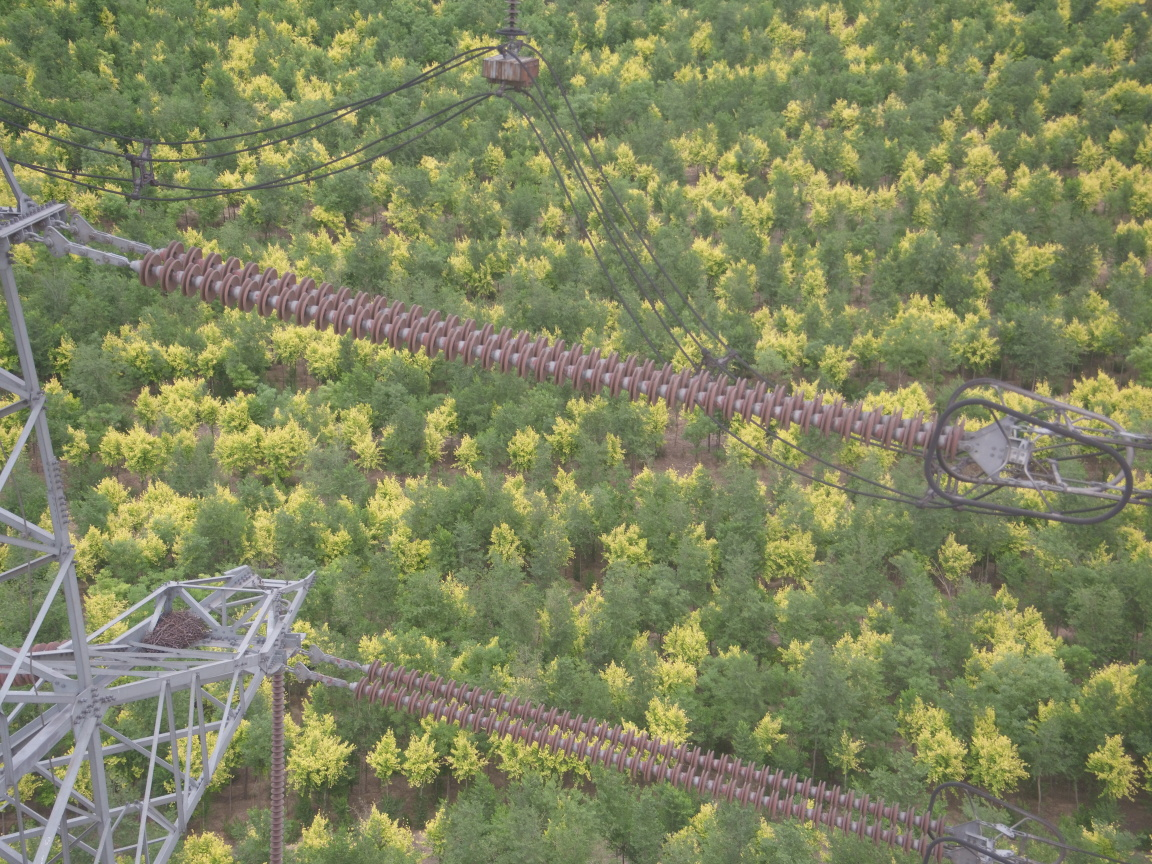insulator: (101, 235, 979, 464), (325, 652, 952, 862)
